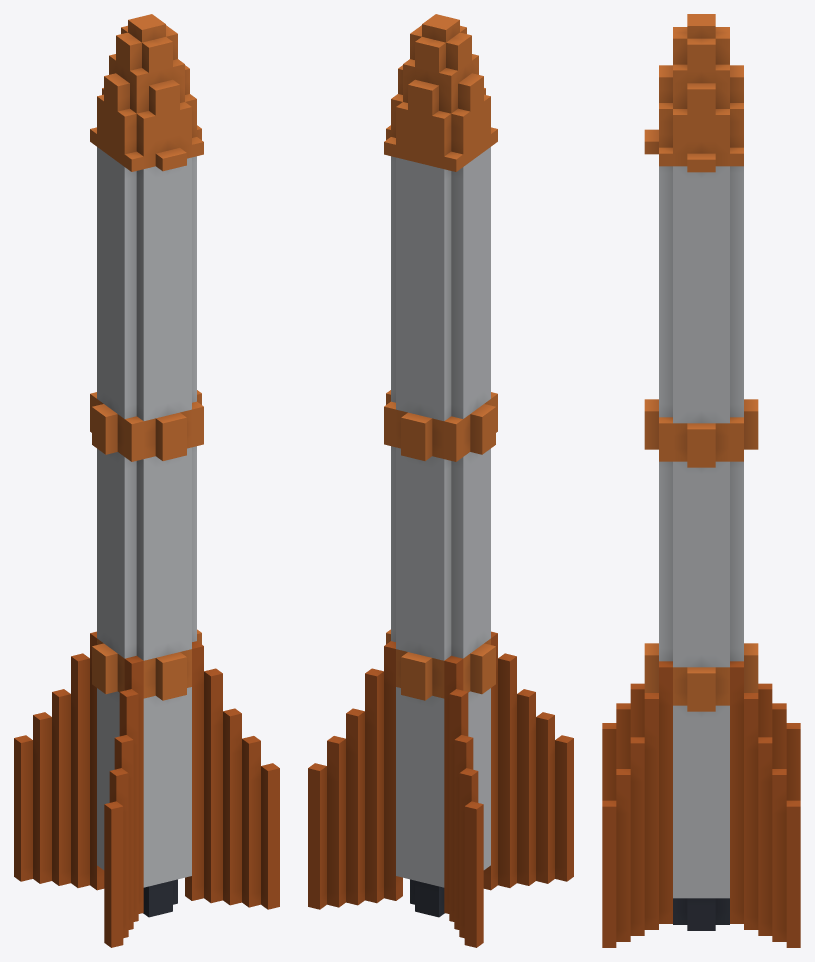
File: rocket_e1.glb
The picture shows the model from 3 angles, left to right: view 1: azimuth 30°, elevation 25°; view 2: azimuth 150°, elevation 25°; view 3: azimuth 270°, elevation 25°; orthographic projection.
Parts seen in each view (by area): view 1: Base; view 2: Base; view 3: Base.
Part boxes in pixels (box(x1,y1,x2,y2)): Base: box(14, 14, 279, 947); Base: box(308, 14, 573, 947); Base: box(602, 14, 800, 947).
Size of the model in its own units: 1.4 by 7 by 1.4.
